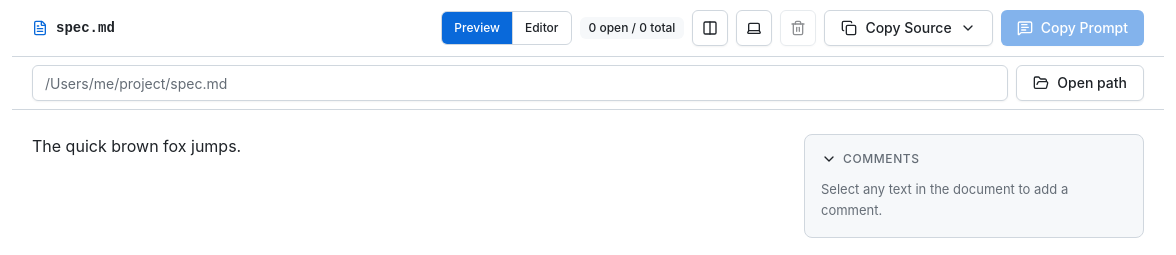
App editor mode › shows the Save button only in Editor mode
Expected: the text "spec.md" is shown, [56,18,115,38]
Expected: the button "Save" is not shown
Click the button "Editor": [541, 28] box [512,12,570,44]
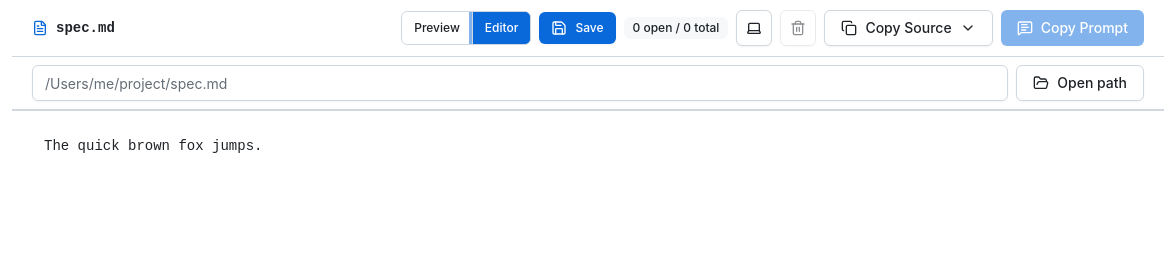
Expected: the button "Save" is shown, [539,12,616,44]
Click the button "Preview": [437, 28] box [402,12,472,44]
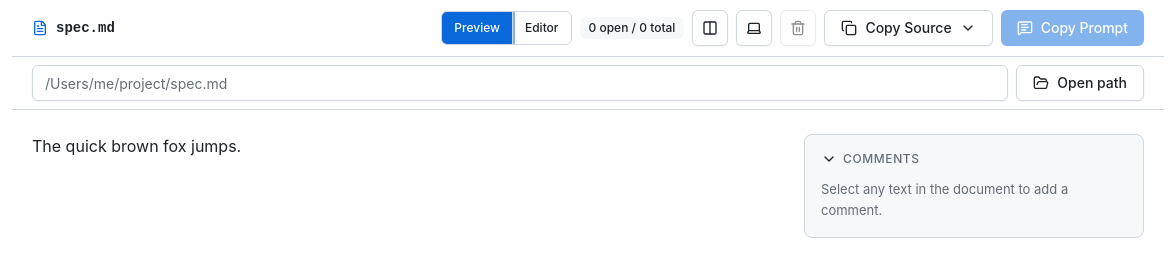
Expected: the button "Save" is gone
